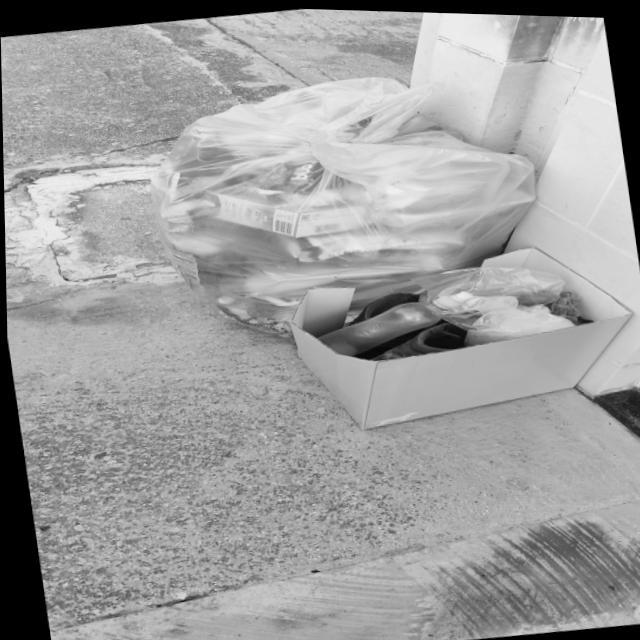Others Waste: (284, 242, 639, 431)
Recyclable Material -Grey Bags-: (150, 71, 543, 337)
